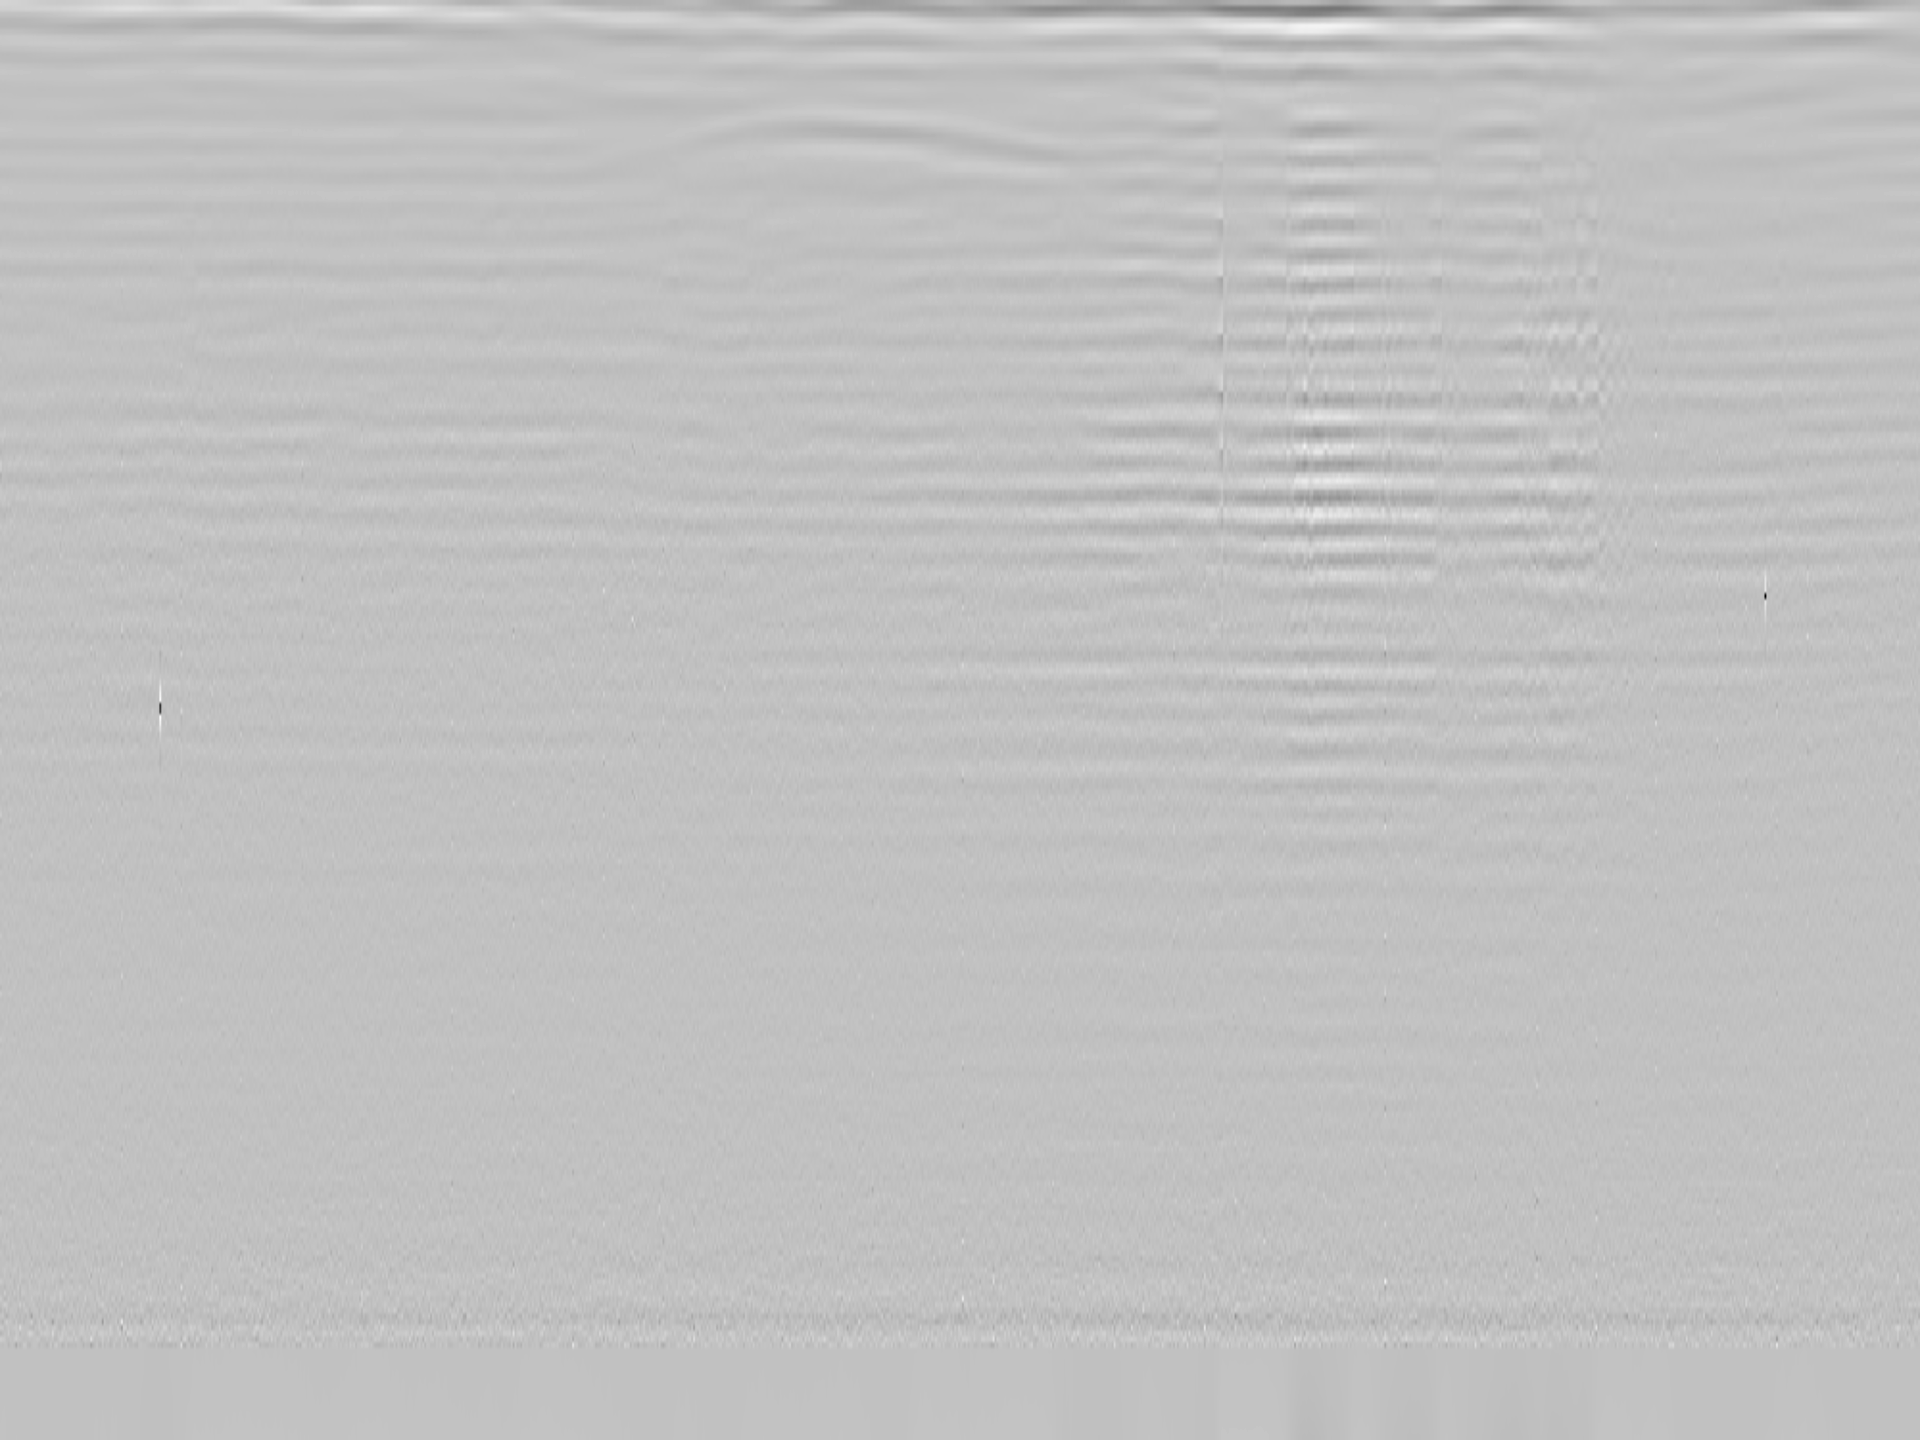Tunnel: (553, 106, 1208, 182)
